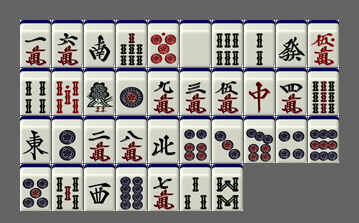0m: (308, 20, 339, 67)
0p: (148, 20, 179, 67)
0s: (52, 68, 83, 115)
1m: (20, 20, 51, 67)
1p: (116, 68, 147, 115)
1s: (84, 68, 115, 115)
1z: (20, 116, 51, 163)
2m: (84, 116, 115, 163)
2p: (52, 116, 83, 163)
2s: (244, 20, 275, 67)
2z: (84, 20, 115, 67)
3m: (180, 68, 211, 115)
3p: (212, 116, 243, 163)
3s: (180, 164, 211, 211)
3z: (84, 164, 115, 211)
4m: (276, 68, 307, 115)
4p: (276, 116, 307, 163)
4s: (20, 68, 51, 115)
4z: (148, 116, 179, 163)
5m: (212, 68, 243, 115)
5p: (20, 164, 51, 211)
5s: (52, 164, 83, 211)
5z: (180, 20, 211, 67)
6m: (52, 20, 83, 67)
6p: (180, 116, 211, 163)
6s: (212, 20, 243, 67)
6z: (276, 20, 307, 67)
7m: (148, 164, 179, 211)
7p: (244, 116, 275, 163)
7s: (116, 20, 147, 67)
7z: (244, 68, 275, 115)
8m: (116, 116, 147, 163)
8p: (116, 164, 147, 211)
8s: (212, 164, 243, 211)
9m: (148, 68, 179, 115)
9p: (308, 116, 339, 163)
9s: (308, 68, 339, 115)
